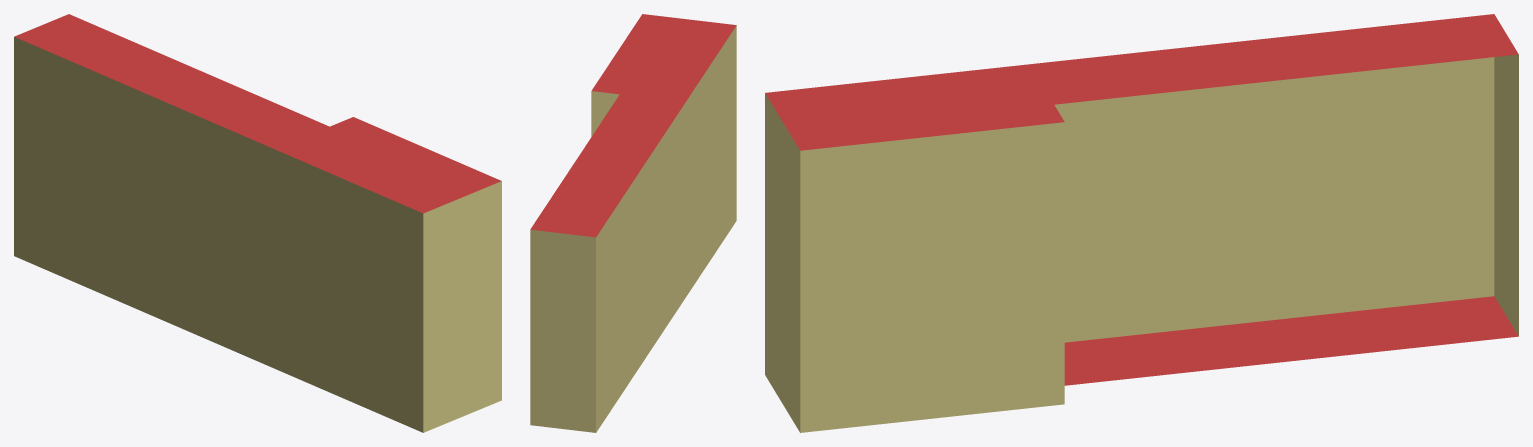
The picture shows the model from 3 angles, left to right: view 1: azimuth 30°, elevation 25°; view 2: azimuth 150°, elevation 25°; view 3: azimuth 270°, elevation 25°; orthographic projection. The views are drawn at different scales.
Size of the model in its own units: 8.28 by 19.28 by 7.97.
